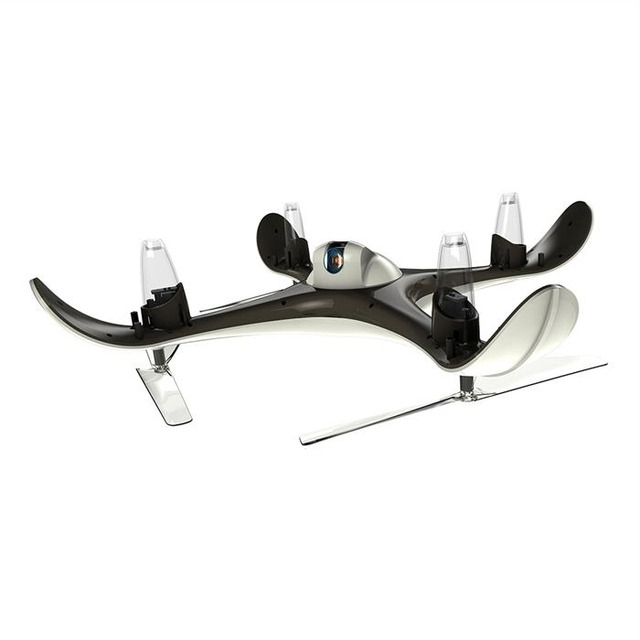drone: (27, 193, 606, 463)
